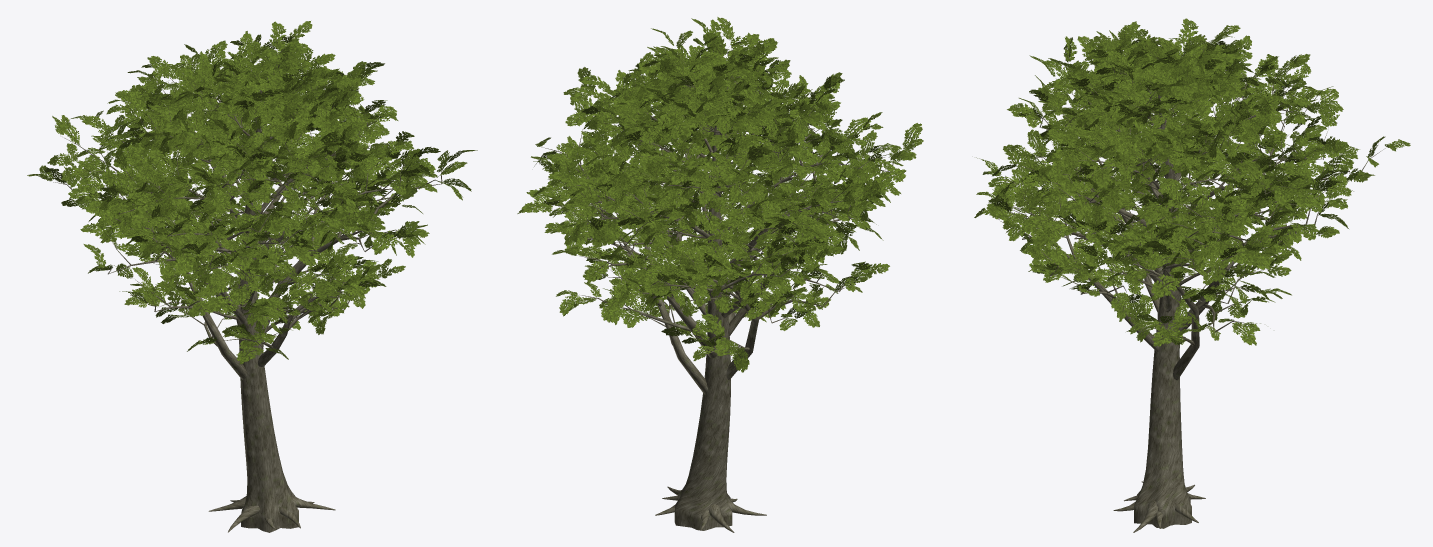
File: ForestMaple.fbx
3 renders of one model, left to right at view 1: azimuth 30°, elevation 25°; view 2: azimuth 150°, elevation 25°; view 3: azimuth 270°, elevation 25°, orthographic.
Parts seen in each view (by area): view 1: ForestMaple_LOD0; view 2: ForestMaple_LOD0; view 3: ForestMaple_LOD0.
Boxes of the visible parts, left/top/right/bottom form: ForestMaple_LOD0: left=27, top=21, right=477, bottom=532; ForestMaple_LOD0: left=517, top=17, right=923, bottom=532; ForestMaple_LOD0: left=974, top=18, right=1410, bottom=532.
Size of what is drawn, in the model's own units: 1677 by 2072 by 1751.
2 materials, 2 textured.
